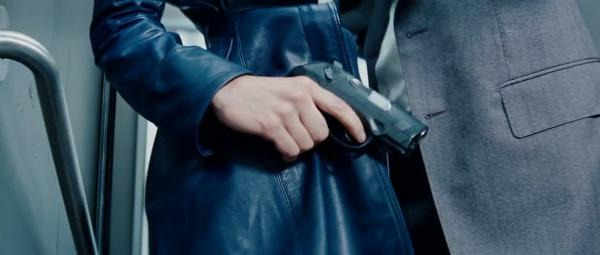Gun: (300, 60, 429, 159)
